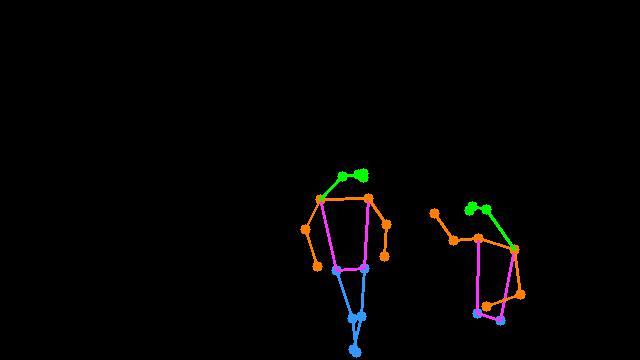normal: (294, 154, 535, 360)
